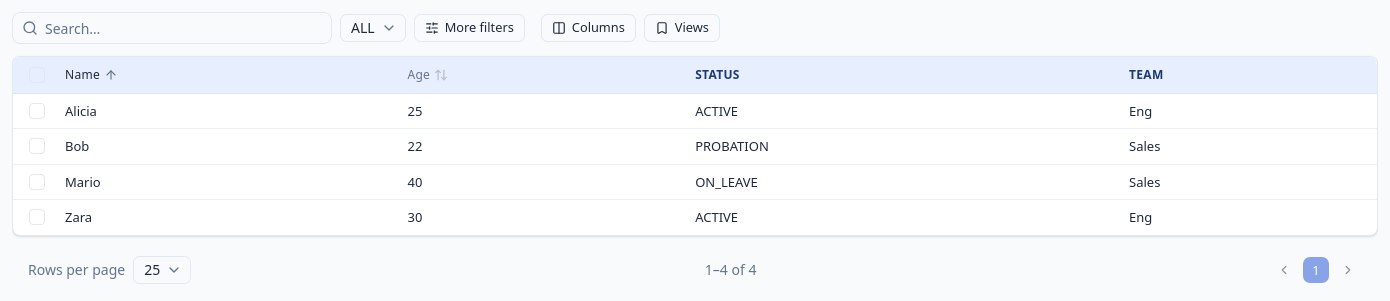
Scenario: HrisDataTable › narrows via a quick filter and shows a removable chip
Click the dropdown named "filter by status": (373, 28) top-left (340, 14), bottom-right (406, 42)
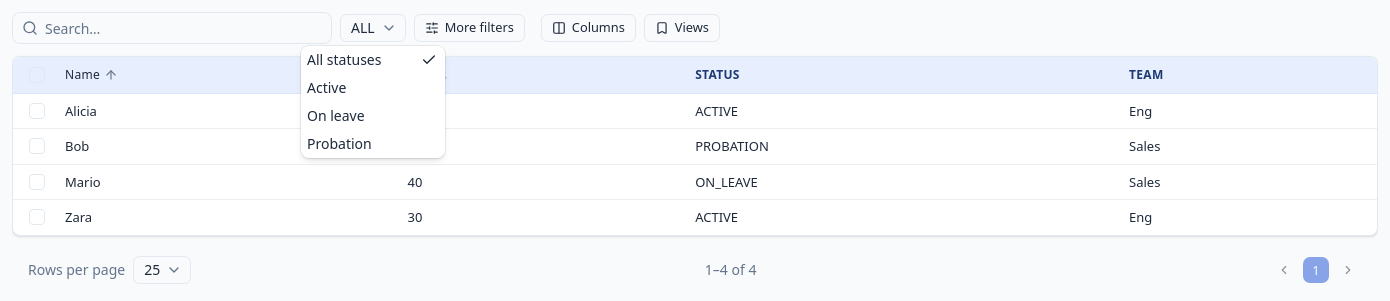
Click the option "Active": (327, 88) top-left (307, 78), bottom-right (346, 97)
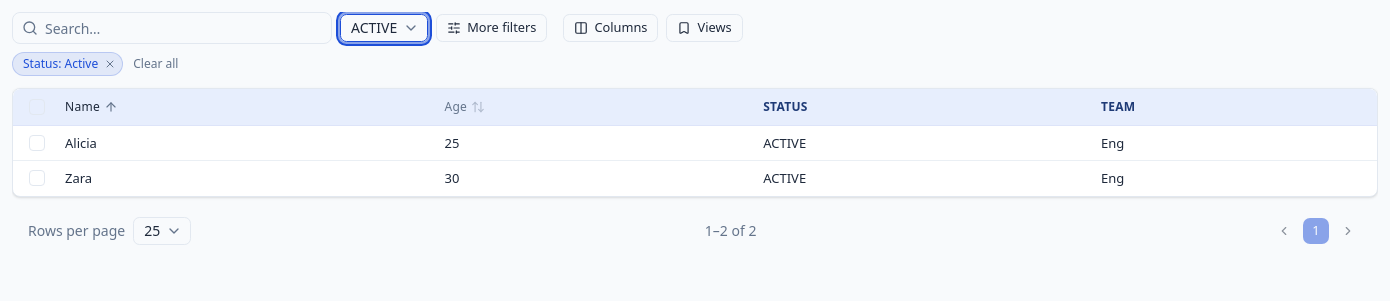
Expected: the text "Zara" is shown, top-left (53, 161), bottom-right (432, 196)
Expected: the text "Mario" is gone
Expected: the text "Status: Active" is shown, top-left (12, 52), bottom-right (123, 76)
Click the button named "remove status: active filter": (110, 64) top-left (102, 56), bottom-right (118, 72)
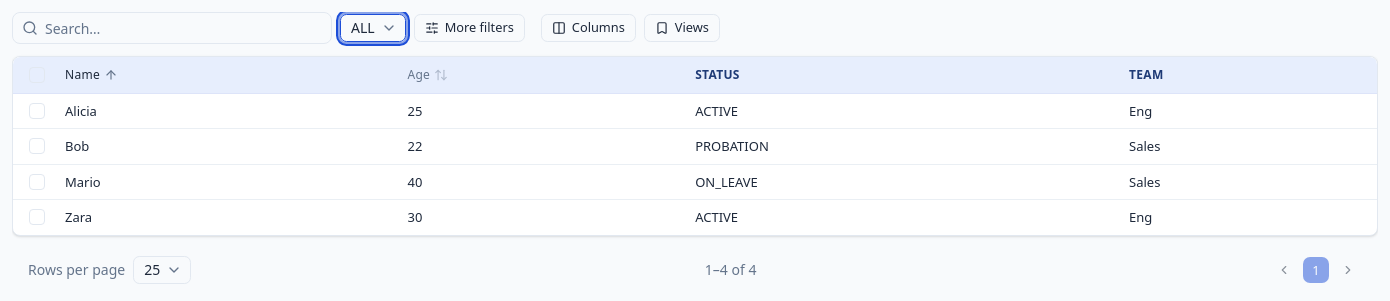
Expected: the text "Mario" is shown, top-left (53, 164), bottom-right (396, 200)
